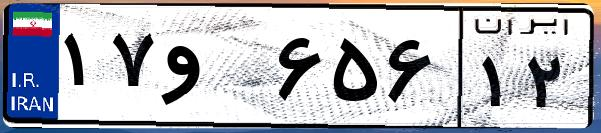1: (57, 26, 110, 100), (475, 38, 525, 113)
2: (525, 38, 570, 115)
5: (330, 28, 385, 110)
6: (270, 28, 330, 110), (385, 28, 445, 110)
7: (110, 28, 158, 98)
و: (158, 20, 270, 120)
